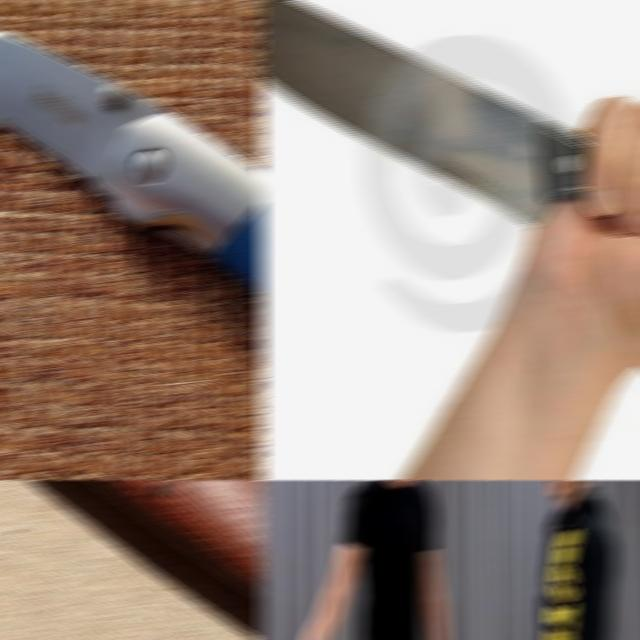Knife: (258, 0, 590, 224)
